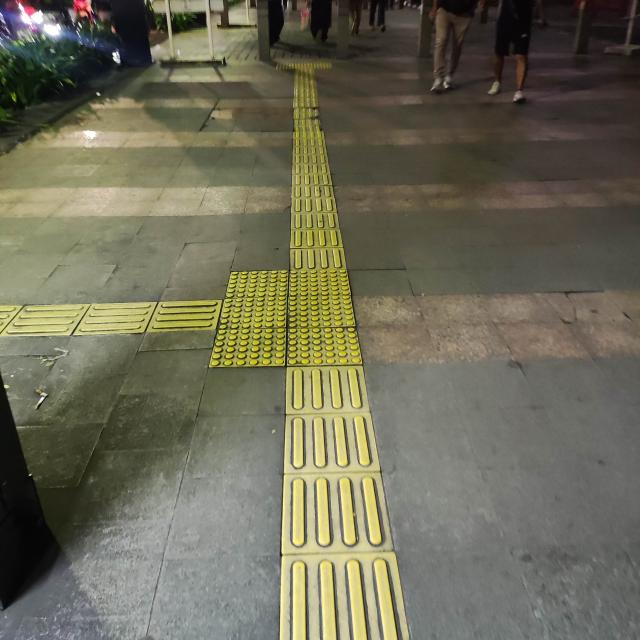lurus: (276, 380, 408, 640), (282, 65, 344, 254)
